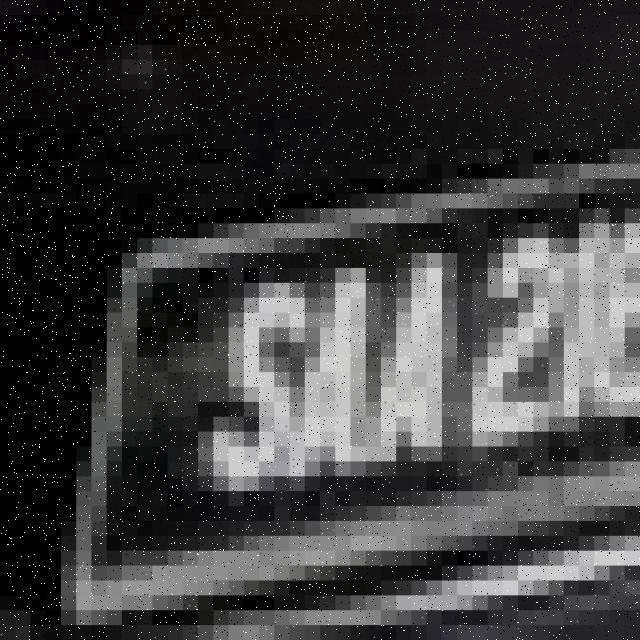LicensePlate: (30, 134, 640, 621)
